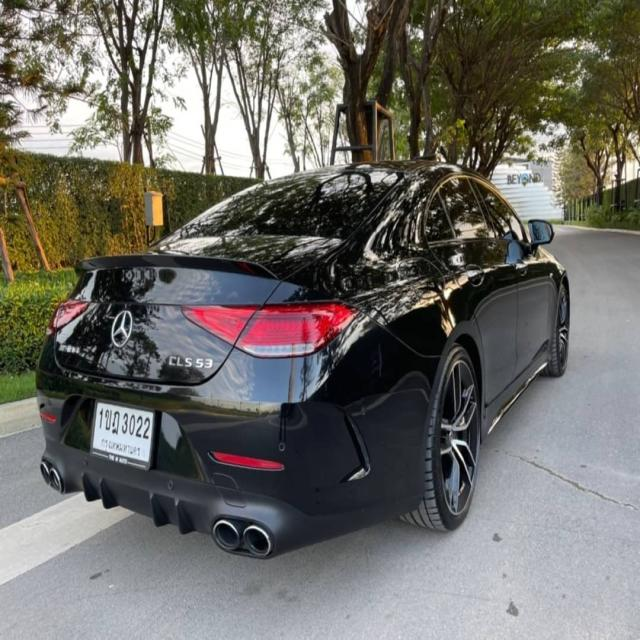license_plate: (90, 398, 156, 472)
